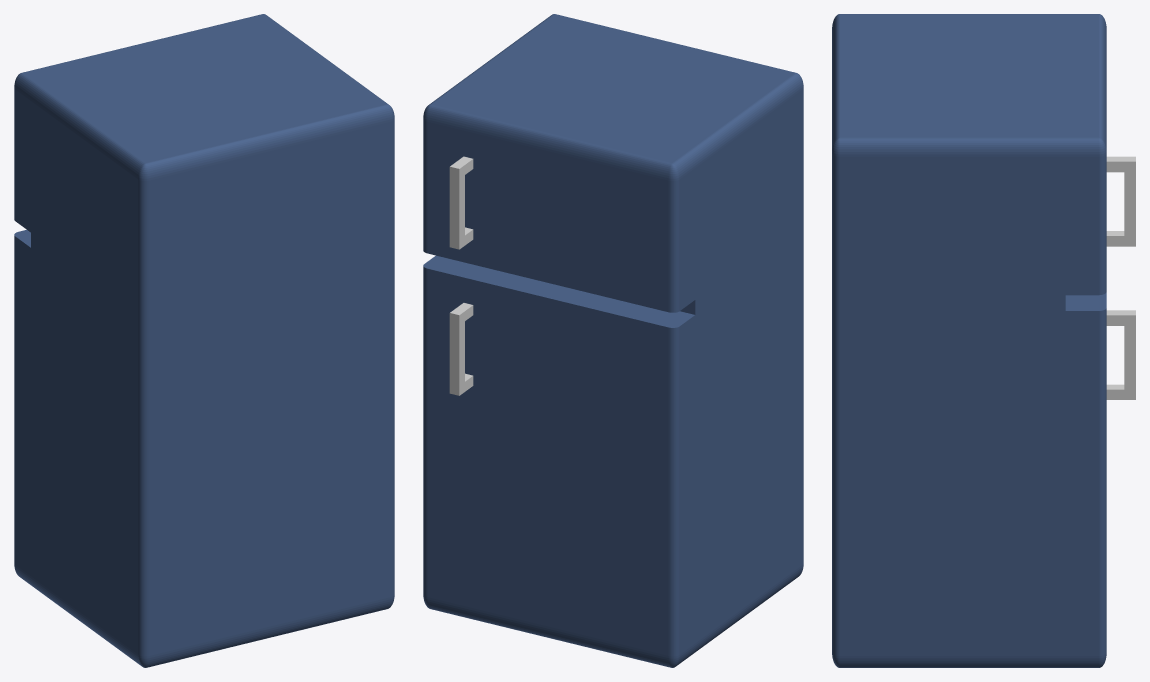
The model's file is asset.glb.
3 views of the same model, side by side, from view 1: azimuth 30°, elevation 25°; view 2: azimuth 150°, elevation 25°; view 3: azimuth 270°, elevation 25° (orthographic). The views are drawn at different scales.
Visible parts, largest first — view 1: Mesh_Mesh_head_geo.001_lambert2SG.001; view 2: Mesh_Mesh_head_geo.001_lambert2SG.001; view 3: Mesh_Mesh_head_geo.001_lambert2SG.001.
Part boxes in pixels (<box>): Mesh_Mesh_head_geo.001_lambert2SG.001: <box>14,14,394,667</box>; Mesh_Mesh_head_geo.001_lambert2SG.001: <box>423,14,803,667</box>; Mesh_Mesh_head_geo.001_lambert2SG.001: <box>832,14,1135,667</box>.
Bounding box in the file's own units: 53 × 100 × 52.
